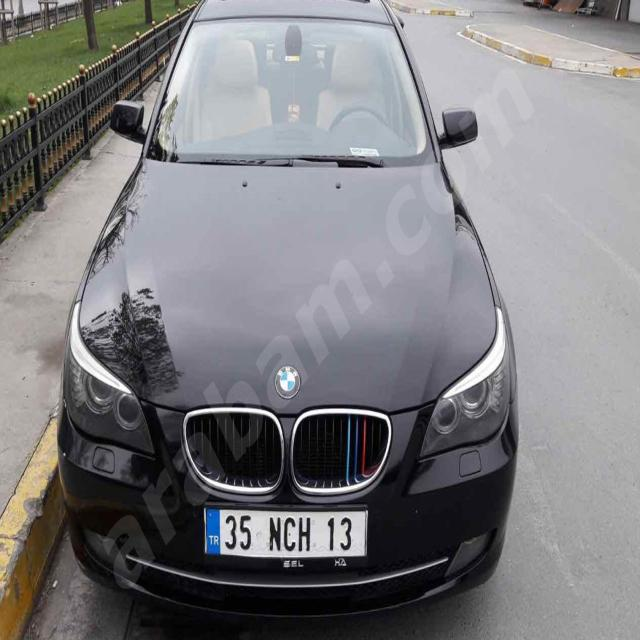license_plate: (204, 509, 368, 555)
